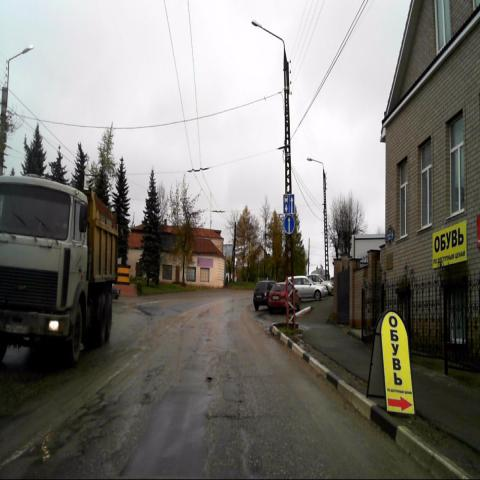5_11: (284, 193, 294, 214)
